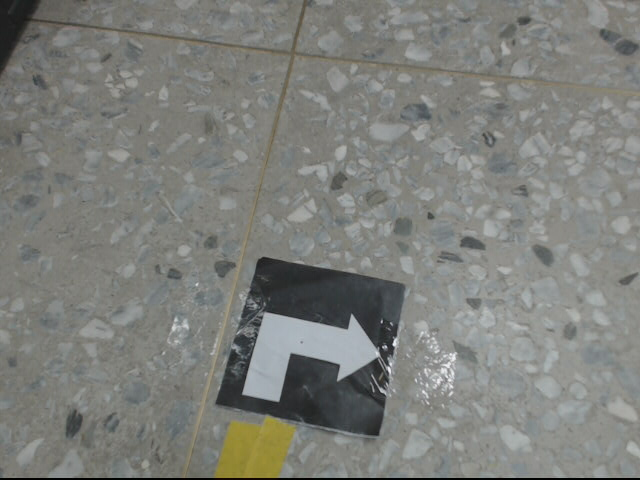right: (213, 255, 405, 438)
